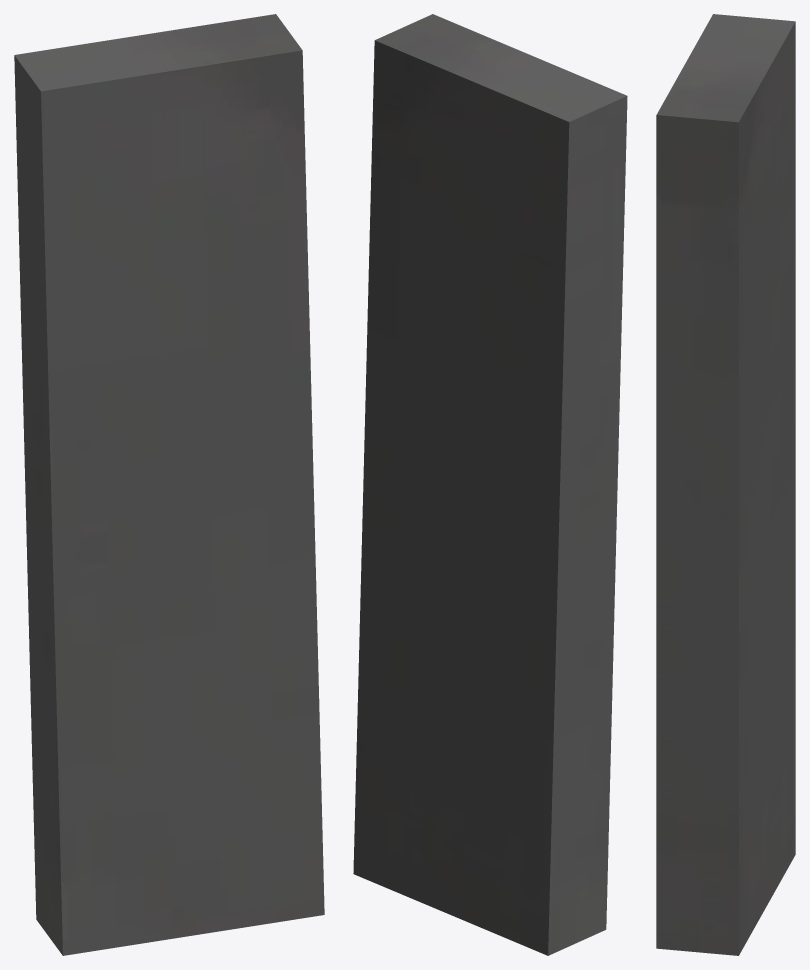
File: fan_center__blade_6.glb
The picture shows the model from 3 angles, left to right: view 1: azimuth 30°, elevation 25°; view 2: azimuth 150°, elevation 25°; view 3: azimuth 270°, elevation 25°; orthographic projection. The views are drawn at different scales.
Parts seen in each view (by area): view 1: world; view 2: world; view 3: world.
Boxes of the visible parts, x1=… form: world: x1=14, y1=14, x2=324, y2=955; world: x1=353, y1=14, x2=627, y2=955; world: x1=656, y1=14, x2=795, y2=955.
Size of the model in its own units: 0.00911 by 0.0282 by 0.00428.
1 material, 1 textured.
